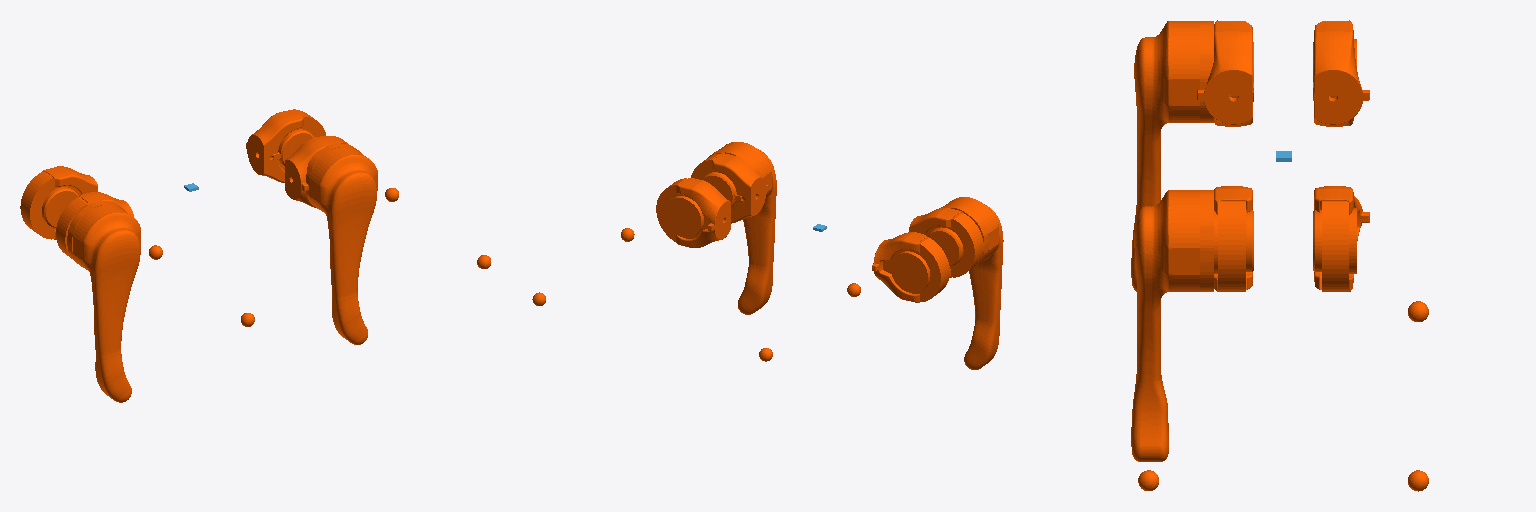
--- Render facts (derived) ---
3 views of the same robot in one strip: view 1: azimuth 30°, elevation 25°; view 2: azimuth 150°, elevation 25°; view 3: azimuth 270°, elevation 25° (orthographic).
Robot: robot — 18 links, 17 joints (12 revolute, 5 fixed); root link base; default pose: joints at zero except 4 at the middle of their limits (RF_KFE = -1.85, LF_KFE = -1.85, RH_KFE = -1.85, LH_KFE = -1.85).
Links seen in each view (by area): view 1: RH_thigh, RF_thigh, LH_hip, LF_hip, RF_hip, RH_hip; view 2: RH_thigh, LF_hip, RF_thigh, LH_hip, RH_hip, RF_hip; view 3: RF_thigh, RH_thigh, LF_hip, LH_hip, RH_hip, RF_hip.
Boxes of the visible links, bbox=[...] form: RH_thigh: bbox=[67, 201, 140, 402]; RF_thigh: bbox=[306, 143, 377, 344]; LH_hip: bbox=[20, 166, 97, 239]; LF_hip: bbox=[246, 109, 325, 182]; RF_hip: bbox=[285, 136, 348, 207]; RH_hip: bbox=[56, 192, 133, 258]; RH_thigh: bbox=[941, 197, 1003, 369]; LF_hip: bbox=[656, 178, 730, 247]; RF_thigh: bbox=[708, 142, 776, 314]; LH_hip: bbox=[872, 232, 949, 302]; RH_hip: bbox=[909, 208, 983, 277]; RF_hip: bbox=[691, 153, 767, 223]; RF_thigh: bbox=[1131, 190, 1213, 461]; RH_thigh: bbox=[1131, 21, 1213, 291]; LF_hip: bbox=[1313, 186, 1369, 291]; LH_hip: bbox=[1313, 20, 1369, 126]; RH_hip: bbox=[1197, 20, 1253, 126]; RF_hip: bbox=[1214, 186, 1253, 291].
Size in the robot's own frame: 0.6389 by 0.2802 by 0.277 metres.
Meshes: 5 distinct files referenced, 6 mesh visuals loaded (2 binary STL); not drawn: 7 (reference not matched to a file when rendering).

robot.urdf — robot:
<?xml version="1.0" ?>
<!-- from: legged_unitree/legged_unitree_description/urdf/go1.urdf -->
<!-- =================================================================================== -->
<!-- |    This document was autogenerated by xacro from robot.xacro                    | -->
<!-- |    EDITING THIS FILE BY HAND IS NOT RECOMMENDED                                 | -->
<!-- =================================================================================== -->
<robot name="robot">
  <material name="black">
    <color rgba="0.0 0.0 0.0 1.0"/>
  </material>
  <material name="blue">
    <color rgba="0.0 0.0 0.8 1.0"/>
  </material>
  <material name="green">
    <color rgba="0.0 0.8 0.0 1.0"/>
  </material>
  <material name="grey">
    <color rgba="0.2 0.2 0.2 1.0"/>
  </material>
  <material name="silver">
    <color rgba="0.9137254901960784 0.9137254901960784 0.8470588235294118 1.0"/>
  </material>
  <material name="orange">
    <color rgba="1.0 0.4235294117647059 0.0392156862745098 1.0"/>
  </material>
  <material name="brown">
    <color rgba="0.8705882352941177 0.8117647058823529 0.7647058823529411 1.0"/>
  </material>
  <material name="red">
    <color rgba="0.8 0.0 0.0 1.0"/>
  </material>
  <material name="white">
    <color rgba="1.0 1.0 1.0 1.0"/>
  </material>
  <!-- ros_control plugin -->
  <gazebo>
    <plugin filename="liblegged_hw_sim.so" name="gazebo_ros_control">
      <robotNamespace>/</robotNamespace>
      <robotParam>legged_robot_description</robotParam>
      <robotSimType>legged_gazebo/LeggedHWSim</robotSimType>
    </plugin>
  </gazebo>
  <gazebo>
    <plugin filename="libgazebo_ros_p3d.so" name="p3d_base_controller">
      <alwaysOn>true</alwaysOn>
      <updateRate>1000.0</updateRate>
      <bodyName>base</bodyName>
      <topicName>ground_truth/state</topicName>
      <gaussianNoise>0</gaussianNoise>
      <frameName>world</frameName>
      <xyzOffsets>0 0 0</xyzOffsets>
      <rpyOffsets>0 0 0</rpyOffsets>
    </plugin>
  </gazebo>
  <gazebo reference="base_link">
    <maxVel>100.</maxVel>
    <kp>10000.</kp>
    <kd>0.</kd>
  </gazebo>
  <gazebo reference="stick_link">
    <mu1>0.2</mu1>
    <mu2>0.2</mu2>
    <material>Gazebo/White</material>
  </gazebo>
  <!-- LF leg -->
  <gazebo reference="LF_hip">
    <mu1>0.2</mu1>
    <mu2>0.2</mu2>
    <material>Gazebo/DarkGrey</material>
  </gazebo>
  <gazebo reference="LF_thigh">
    <mu1>0.2</mu1>
    <mu2>0.2</mu2>
    <self_collide>1</self_collide>
    <material>Gazebo/DarkGrey</material>
    <kp value="1000000.0"/>
    <kd value="1.0"/>
  </gazebo>
  <gazebo reference="LF_calf">
    <mu1>0.2</mu1>
    <mu2>0.2</mu2>
    <self_collide>1</self_collide>
  </gazebo>
  <gazebo reference="LF_FOOT">
    <mu1>0.6</mu1>
    <mu2>0.6</mu2>
    <self_collide>1</self_collide>
    <material>Gazebo/DarkGrey</material>
    <kp value="1000000.0"/>
    <kd value="100.0"/>
  </gazebo>
  <!-- RF leg -->
  <gazebo reference="RF_hip">
    <mu1>0.2</mu1>
    <mu2>0.2</mu2>
    <material>Gazebo/DarkGrey</material>
  </gazebo>
  <gazebo reference="RF_thigh">
    <mu1>0.2</mu1>
    <mu2>0.2</mu2>
    <self_collide>1</self_collide>
    <material>Gazebo/DarkGrey</material>
    <kp value="1000000.0"/>
    <kd value="1.0"/>
  </gazebo>
  <gazebo reference="RF_calf">
    <mu1>0.2</mu1>
    <mu2>0.2</mu2>
    <self_collide>1</self_collide>
  </gazebo>
  <gazebo reference="RF_FOOT">
    <mu1>0.6</mu1>
    <mu2>0.6</mu2>
    <self_collide>1</self_collide>
    <material>Gazebo/DarkGrey</material>
    <kp value="1000000.0"/>
    <kd value="1.0"/>
  </gazebo>
  <!-- LH leg -->
  <gazebo reference="LH_hip">
    <mu1>0.2</mu1>
    <mu2>0.2</mu2>
    <material>Gazebo/DarkGrey</material>
  </gazebo>
  <gazebo reference="LH_thigh">
    <mu1>0.2</mu1>
    <mu2>0.2</mu2>
    <self_collide>1</self_collide>
    <material>Gazebo/DarkGrey</material>
    <kp value="1000000.0"/>
    <kd value="1.0"/>
  </gazebo>
  <gazebo reference="LH_calf">
    <mu1>0.2</mu1>
    <mu2>0.2</mu2>
    <self_collide>1</self_collide>
  </gazebo>
  <gazebo reference="LH_FOOT">
    <mu1>0.6</mu1>
    <mu2>0.6</mu2>
    <self_collide>1</self_collide>
    <material>Gazebo/DarkGrey</material>
    <kp value="1000000.0"/>
    <kd value="1.0"/>
  </gazebo>
  <!-- RH leg -->
  <gazebo reference="RH_hip">
    <mu1>0.2</mu1>
    <mu2>0.2</mu2>
    <material>Gazebo/DarkGrey</material>
  </gazebo>
  <gazebo reference="RH_thigh">
    <mu1>0.2</mu1>
    <mu2>0.2</mu2>
    <self_collide>1</self_collide>
    <material>Gazebo/DarkGrey</material>
    <kp value="1000000.0"/>
    <kd value="1.0"/>
  </gazebo>
  <gazebo reference="RH_calf">
    <mu1>0.2</mu1>
    <mu2>0.2</mu2>
    <self_collide>1</self_collide>
  </gazebo>
  <gazebo reference="RH_FOOT">
    <mu1>0.6</mu1>
    <mu2>0.6</mu2>
    <self_collide>1</self_collide>
    <material>Gazebo/DarkGrey</material>
    <kp value="1000000.0"/>
    <kd value="1.0"/>
  </gazebo>
  <link name="base">
    <visual>
      <origin rpy="0 0 0" xyz="0 0 0"/>
      <geometry>
        <mesh filename="package://meshes/go1/trunk.stl" scale="1 1 1"/>
      </geometry>
    </visual>
    <collision>
      <origin rpy="0 0 0" xyz="0 0 0"/>
      <geometry>
        <box size="0.3762 0.0935 0.114"/>
      </geometry>
    </collision>
    <inertial>
      <origin rpy="0 0 0" xyz="0.0223 0.002 -0.0005"/>
      <mass value="5.204"/>
      <inertia ixx="0.0168128557" ixy="-0.0002296769" ixz="-0.0002945293" iyy="0.063009565" iyz="-4.18731e-05" izz="0.0716547275"/>
    </inertial>
  </link>
  <!-- Imu is fixed to the base link -->
  <joint name="unitree_imu_joint" type="fixed">
    <origin rpy="0. 0. 0." xyz="0. 0. 0."/>
    <parent link="base"/>
    <child link="unitree_imu"/>
  </joint>
  <!-- Imu link -->
  <link name="unitree_imu">
    <inertial>
      <mass value="0.01"/>
      <origin rpy="0 0 0" xyz="0 0 0"/>
      <inertia ixx="0.000001" ixy="0" ixz="0" iyy="0.000001" iyz="0" izz="0.000001"/>
    </inertial>
    <visual>
      <origin rpy="0 0 0" xyz="0 0 0"/>
      <geometry>
        <box size="0.015 0.015 0.004"/>
      </geometry>
    </visual>
    <material name="orange">
      <color rgba="255 108 10 255"/>
    </material>
  </link>
  <gazebo reference="unitree_imu">
    <material>Gazebo/Orange</material>
  </gazebo>
  <gazebo reference="unitree_imu_joint">
    <disableFixedJointLumping>true</disableFixedJointLumping>
  </gazebo>
  <joint name="RF_HAA" type="revolute">
    <origin rpy="0 0 0" xyz="0.1881 -0.04675 0"/>
    <parent link="base"/>
    <child link="RF_hip"/>
    <axis xyz="1 0 0"/>
    <dynamics damping="0.01" friction="0.2"/>
    <limit effort="23.7" lower="-0.863" upper="0.863" velocity="30.1"/>
  </joint>
  <link name="RF_hip">
    <visual>
      <origin rpy="3.141592653589793 0 0" xyz="0 0 0"/>
      <geometry>
        <mesh filename="package://meshes/go1/hip.stl" scale="1 1 1"/>
      </geometry>
      <material name="orange"/>
    </visual>
    <collision>
      <origin rpy="1.5707963267948966 0 0" xyz="0 0 0"/>
      <geometry>
        <cylinder length="0.04" radius="0.046"/>
      </geometry>
    </collision>
    <inertial>
      <origin rpy="0 0 0" xyz="-0.005657 0.008752 -0.000102"/>
      <mass value="0.591"/>
      <inertia ixx="0.000334008405" ixy="1.0826066e-05" ixz="1.290732e-06" iyy="0.000619101213" iyz="-1.643194e-06" izz="0.00040057614"/>
    </inertial>
  </link>
  <joint name="RF_HFE" type="revolute">
    <origin rpy="0 0 0" xyz="0 -0.08 0"/>
    <parent link="RF_hip"/>
    <child link="RF_thigh"/>
    <axis xyz="0 1 0"/>
    <dynamics damping="0.01" friction="0.2"/>
    <limit effort="23.7" lower="-0.686" upper="4.501" velocity="30.1"/>
  </joint>
  <link name="RF_thigh">
    <visual>
      <origin rpy="0 0 0" xyz="0 0 0"/>
      <geometry>
        <mesh filename="package://meshes/go1/thigh_mirror.stl" scale="1 1 1"/>
      </geometry>
      <material name="orange"/>
    </visual>
    <!--collision>
                <origin rpy="0 ${pi/2.0+0.1} 0" xyz="${thigh_x_offset} 0 ${-thigh_length/2.0}"/>
                <geometry>
                    <box size="${thigh_length} ${thigh_width} ${thigh_height}"/>
                </geometry>
            </collision>
            <collision>
                <origin rpy="${pi/2.0} 0 0" xyz="0 ${mirror*thigh_shoulder_y_offset} 0"/>
                <geometry>
                    <cylinder length="${thigh_shoulder_length}" radius="${thigh_shoulder_radius}"/>
                </geometry>
            </collision-->
    <collision>
      <origin rpy="0 1.5707963267948966 0" xyz="0 0 -0.1065"/>
      <geometry>
        <box size="0.213 0.0245 0.034"/>
      </geometry>
    </collision>
    <inertial>
      <origin rpy="0 0 0" xyz="-0.003342 0.018054 -0.033451"/>
      <mass value="0.92"/>
      <inertia ixx="0.004431760472" ixy="-5.7496807e-05" ixz="-0.000218457134" iyy="0.004485671726" iyz="-0.000572001265" izz="0.000740309489"/>
    </inertial>
  </link>
  <joint name="RF_KFE" type="revolute">
    <origin rpy="0 0 0" xyz="0 0 -0.213"/>
    <parent link="RF_thigh"/>
    <child link="RF_calf"/>
    <axis xyz="0 1 0"/>
    <dynamics damping="0.01" friction="0.2"/>
    <limit effort="35.55" lower="-2.818" upper="-0.888" velocity="20.06"/>
  </joint>
  <link name="RF_calf">
    <visual>
      <origin rpy="0 0 0" xyz="0 0 0"/>
      <geometry>
        <mesh filename="package://meshes/go1/calf.stl" scale="1 1 1"/>
      </geometry>
      <material name="orange"/>
    </visual>
    <collision>
      <origin rpy="0 1.5707963267948966 0" xyz="0 0 -0.1065"/>
      <geometry>
        <box size="0.213 0.016 0.016"/>
      </geometry>
    </collision>
    <inertial>
      <origin rpy="0 0 0" xyz="0.006197 0.001408 -0.116695"/>
      <mass value="0.135862"/>
      <inertia ixx="0.001088793059" ixy="-2.55679e-07" ixz="7.117814e-06" iyy="0.001100428748" iyz="2.077264e-06" izz="2.4787446e-05"/>
    </inertial>
  </link>
  <joint name="RF_foot_fixed" type="fixed">
    <origin rpy="0 0 0" xyz="0 0 -0.213"/>
    <parent link="RF_calf"/>
    <child link="RF_FOOT"/>
  </joint>
  <link name="RF_FOOT">
    <visual>
      <origin rpy="0 0 0" xyz="0 0 0"/>
      <geometry>
        <sphere radius="0.01"/>
      </geometry>
      <material name="orange"/>
    </visual>
    <collision>
      <origin rpy="0 0 0" xyz="0 0 0"/>
      <geometry>
        <sphere radius="0.02"/>
      </geometry>
    </collision>
    <inertial>
      <mass value="0.06"/>
      <inertia ixx="9.600000000000001e-06" ixy="0.0" ixz="0.0" iyy="9.600000000000001e-06" iyz="0.0" izz="9.600000000000001e-06"/>
    </inertial>
  </link>
  <gazebo reference="RF_foot_fixed">
    <disableFixedJointLumping>true</disableFixedJointLumping>
  </gazebo>
  <transmission name="RF_HAA_tran">
    <type>transmission_interface/SimpleTransmission</type>
    <joint name="RF_HAA">
      <hardwareInterface>hardware_interface/EffortJointInterface</hardwareInterface>
    </joint>
    <actuator name="RF_HAA_motor">
      <hardwareInterface>hardware_interface/EffortJointInterface</hardwareInterface>
      <mechanicalReduction>1</mechanicalReduction>
    </actuator>
  </transmission>
  <transmission name="RF_HFE_tran">
    <type>transmission_interface/SimpleTransmission</type>
    <joint name="RF_HFE">
      <hardwareInterface>hardware_interface/EffortJointInterface</hardwareInterface>
    </joint>
    <actuator name="RF_HFE_motor">
      <hardwareInterface>hardware_interface/EffortJointInterface</hardwareInterface>
      <mechanicalReduction>1</mechanicalReduction>
    </actuator>
  </transmission>
  <transmission name="RF_KFE_tran">
    <type>transmission_interface/SimpleTransmission</type>
    <joint name="RF_KFE">
      <hardwareInterface>hardware_interface/EffortJointInterface</hardwareInterface>
    </joint>
    <actuator name="RF_KFE_motor">
      <hardwareInterface>hardware_interface/EffortJointInterface</hardwareInterface>
      <mechanicalReduction>1</mechanicalReduction>
    </actuator>
  </transmission>
  <joint name="LF_HAA" type="revolute">
    <origin rpy="0 0 0" xyz="0.1881 0.04675 0"/>
    <parent link="base"/>
    <child link="LF_hip"/>
    <axis xyz="1 0 0"/>
    <dynamics damping="0.01" friction="0.2"/>
    <limit effort="23.7" lower="-0.863" upper="0.863" velocity="30.1"/>
  </joint>
  <link name="LF_hip">
    <visual>
      <origin rpy="0 0 0" xyz="0 0 0"/>
      <geometry>
        <mesh filename="package://meshes/go1/hip.stl" scale="1 1 1"/>
      </geometry>
      <material name="orange"/>
    </visual>
    <collision>
      <origin rpy="1.5707963267948966 0 0" xyz="0 0 0"/>
      <geometry>
        <cylinder length="0.04" radius="0.046"/>
      </geometry>
    </collision>
    <inertial>
      <origin rpy="0 0 0" xyz="-0.005657 -0.008752 -0.000102"/>
      <mass value="0.591"/>
      <inertia ixx="0.000334008405" ixy="-1.0826066e-05" ixz="1.290732e-06" iyy="0.000619101213" iyz="1.643194e-06" izz="0.00040057614"/>
    </inertial>
  </link>
  <joint name="LF_HFE" type="revolute">
    <origin rpy="0 0 0" xyz="0 0.08 0"/>
    <parent link="LF_hip"/>
    <child link="LF_thigh"/>
    <axis xyz="0 1 0"/>
    <dynamics damping="0.01" friction="0.2"/>
    <limit effort="23.7" lower="-0.686" upper="4.501" velocity="30.1"/>
  </joint>
  <link name="LF_thigh">
    <visual>
      <origin rpy="0 0 0" xyz="0 0 0"/>
      <geometry>
        <mesh filename="package://meshes/go1/thigh.stl" scale="1 1 1"/>
      </geometry>
      <material name="orange"/>
    </visual>
    <!--collision>
                <origin rpy="0 ${pi/2.0+0.1} 0" xyz="${thigh_x_offset} 0 ${-thigh_length/2.0}"/>
                <geometry>
                    <box size="${thigh_length} ${thigh_width} ${thigh_height}"/>
                </geometry>
            </collision>
            <collision>
                <origin rpy="${pi/2.0} 0 0" xyz="0 ${mirror*thigh_shoulder_y_offset} 0"/>
                <geometry>
                    <cylinder length="${thigh_shoulder_length}" radius="${thigh_shoulder_radius}"/>
                </geometry>
            </collision-->
    <collision>
      <origin rpy="0 1.5707963267948966 0" xyz="0 0 -0.1065"/>
      <geometry>
        <box size="0.213 0.0245 0.034"/>
      </geometry>
    </collision>
    <inertial>
      <origin rpy="0 0 0" xyz="-0.003342 -0.018054 -0.033451"/>
      <mass value="0.92"/>
      <inertia ixx="0.004431760472" ixy="5.7496807e-05" ixz="-0.000218457134" iyy="0.004485671726" iyz="0.000572001265" izz="0.000740309489"/>
    </inertial>
  </link>
  <joint name="LF_KFE" type="revolute">
    <origin rpy="0 0 0" xyz="0 0 -0.213"/>
    <parent link="LF_thigh"/>
    <child link="LF_calf"/>
    <axis xyz="0 1 0"/>
    <dynamics damping="0.01" friction="0.2"/>
    <limit effort="35.55" lower="-2.818" upper="-0.888" velocity="20.06"/>
  </joint>
  <link name="LF_calf">
    <visual>
      <origin rpy="0 0 0" xyz="0 0 0"/>
      <geometry>
        <mesh filename="package://meshes/go1/calf.stl" scale="1 1 1"/>
      </geometry>
      <material name="orange"/>
    </visual>
    <collision>
      <origin rpy="0 1.5707963267948966 0" xyz="0 0 -0.1065"/>
      <geometry>
        <box size="0.213 0.016 0.016"/>
      </geometry>
    </collision>
    <inertial>
      <origin rpy="0 0 0" xyz="0.006197 0.001408 -0.116695"/>
      <mass value="0.135862"/>
      <inertia ixx="0.001088793059" ixy="-2.55679e-07" ixz="7.117814e-06" iyy="0.001100428748" iyz="2.077264e-06" izz="2.4787446e-05"/>
    </inertial>
  </link>
  <joint name="LF_foot_fixed" type="fixed">
    <origin rpy="0 0 0" xyz="0 0 -0.213"/>
    <parent link="LF_calf"/>
    <child link="LF_FOOT"/>
  </joint>
  <link name="LF_FOOT">
    <visual>
      <origin rpy="0 0 0" xyz="0 0 0"/>
      <geometry>
        <sphere radius="0.01"/>
      </geometry>
      <material name="orange"/>
    </visual>
    <collision>
      <origin rpy="0 0 0" xyz="0 0 0"/>
      <geometry>
        <sphere radius="0.02"/>
      </geometry>
    </collision>
    <inertial>
      <mass value="0.06"/>
      <inertia ixx="9.600000000000001e-06" ixy="0.0" ixz="0.0" iyy="9.600000000000001e-06" iyz="0.0" izz="9.600000000000001e-06"/>
    </inertial>
  </link>
  <gazebo reference="LF_foot_fixed">
    <disableFixedJointLumping>true</disableFixedJointLumping>
  </gazebo>
  <transmission name="LF_HAA_tran">
    <type>transmission_interface/SimpleTransmission</type>
    <joint name="LF_HAA">
      <hardwareInterface>hardware_interface/EffortJointInterface</hardwareInterface>
    </joint>
    <actuator name="LF_HAA_motor">
      <hardwareInterface>hardware_interface/EffortJointInterface</hardwareInterface>
      <mechanicalReduction>1</mechanicalReduction>
    </actuator>
  </transmission>
  <transmission name="LF_HFE_tran">
    <type>transmission_interface/SimpleTransmission</type>
    <joint name="LF_HFE">
      <hardwareInterface>hardware_interface/EffortJointInterface</hardwareInterface>
    </joint>
    <actuator name="LF_HFE_motor">
      <hardwareInterface>hardware_interface/EffortJointInterface</hardwareInterface>
      <mechanicalReduction>1</mechanicalReduction>
    </actuator>
  </transmission>
  <transmission name="LF_KFE_tran">
    <type>transmission_interface/SimpleTransmission</type>
    <joint name="LF_KFE">
      <hardwareInterface>hardware_interface/EffortJointInterface</hardwareInterface>
    </joint>
    <actuator name="LF_KFE_motor">
      <hardwareInterface>hardware_interface/EffortJointInterface</hardwareInterface>
      <mechanicalReduction>1</mechanicalReduction>
    </actuator>
  </transmission>
  <joint name="RH_HAA" type="revolute">
    <origin rpy="0 0 0" xyz="-0.1881 -0.04675 0"/>
    <parent link="base"/>
    <child link="RH_hip"/>
    <axis xyz="1 0 0"/>
    <dynamics damping="0.01" friction="0.2"/>
    <limit effort="23.7" lower="-0.863" upper="0.863" velocity="30.1"/>
  </joint>
  <link name="RH_hip">
    <visual>
      <origin rpy="3.141592653589793 3.141592653589793 0" xyz="0 0 0"/>
      <geometry>
        <mesh filename="package://meshes/go1/hip.stl" scale="1 1 1"/>
      </geometry>
      <material name="orange"/>
    </visual>
    <collision>
      <origin rpy="1.5707963267948966 0 0" xyz="0 0 0"/>
      <geometry>
        <cylinder length="0.04" radius="0.046"/>
      </geometry>
    </collision>
    <inertial>
      <origin rpy="0 0 0" xyz="0.005657 0.008752 -0.000102"/>
      <mass value="0.591"/>
      <inertia ixx="0.000334008405" ixy="-1.0826066e-05" ixz="-1.290732e-06" iyy="0.000619101213" iyz="-1.643194e-06" izz="0.00040057614"/>
    </inertial>
  </link>
  <joint name="RH_HFE" type="revolute">
    <origin rpy="0 0 0" xyz="0 -0.08 0"/>
    <parent link="RH_hip"/>
    <child link="RH_thigh"/>
    <axis xyz="0 1 0"/>
    <dynamics damping="0.01" friction="0.2"/>
    <limit effort="23.7" lower="-0.686" upper="4.501" velocity="30.1"/>
  </joint>
  <link name="RH_thigh">
    <visual>
      <origin rpy="0 0 0" xyz="0 0 0"/>
      <geometry>
        <mesh filename="package://meshes/go1/thigh_mirror.stl" scale="1 1 1"/>
      </geometry>
      <material name="orange"/>
    </visual>
    <!--collision>
                <origin rpy="0 ${pi/2.0+0.1} 0" xyz="${thigh_x_offset} 0 ${-thigh_length/2.0}"/>
                <geometry>
                    <box size="${thigh_length} ${thigh_width} ${thigh_height}"/>
                </geometry>
            </collision>
            <collision>
                <origin rpy="${pi/2.0} 0 0" xyz="0 ${mirror*thigh_shoulder_y_offset} 0"/>
                <geometry>
                    <cylinder length="${thigh_shoulder_length}" radius="${thigh_shoulder_radius}"/>
                </geometry>
            </collision-->
    <collision>
      <origin rpy="0 1.5707963267948966 0" xyz="0 0 -0.1065"/>
      <geometry>
        <box size="0.213 0.0245 0.034"/>
      </geometry>
    </collision>
    <inertial>
      <origin rpy="0 0 0" xyz="-0.003342 0.018054 -0.033451"/>
      <mass value="0.92"/>
      <inertia ixx="0.004431760472" ixy="-5.7496807e-05" ixz="-0.000218457134" iyy="0.004485671726" iyz="-0.000572001265" izz="0.000740309489"/>
    </inertial>
  </link>
  <joint name="RH_KFE" type="revolute">
    <origin rpy="0 0 0" xyz="0 0 -0.213"/>
    <parent link="RH_thigh"/>
    <child link="RH_calf"/>
    <axis xyz="0 1 0"/>
    <dynamics damping="0.01" friction="0.2"/>
    <limit effort="35.55" lower="-2.818" upper="-0.888" velocity="20.06"/>
  </joint>
  <link name="RH_calf">
    <visual>
      <origin rpy="0 0 0" xyz="0 0 0"/>
      <geometry>
        <mesh filename="package://meshes/go1/calf.stl" scale="1 1 1"/>
      </geometry>
      <material name="orange"/>
    </visual>
    <collision>
      <origin rpy="0 1.5707963267948966 0" xyz="0 0 -0.1065"/>
      <geometry>
        <box size="0.213 0.016 0.016"/>
      </geometry>
    </collision>
    <inertial>
      <origin rpy="0 0 0" xyz="0.006197 0.001408 -0.116695"/>
      <mass value="0.135862"/>
      <inertia ixx="0.001088793059" ixy="-2.55679e-07" ixz="7.117814e-06" iyy="0.001100428748" iyz="2.077264e-06" izz="2.4787446e-05"/>
    </inertial>
  </link>
  <joint name="RH_foot_fixed" type="fixed">
    <origin rpy="0 0 0" xyz="0 0 -0.213"/>
    <parent link="RH_calf"/>
    <child link="RH_FOOT"/>
  </joint>
  <link name="RH_FOOT">
    <visual>
      <origin rpy="0 0 0" xyz="0 0 0"/>
      <geometry>
        <sphere radius="0.01"/>
      </geometry>
      <material name="orange"/>
    </visual>
    <collision>
      <origin rpy="0 0 0" xyz="0 0 0"/>
      <geometry>
        <sphere radius="0.02"/>
      </geometry>
    </collision>
    <inertial>
      <mass value="0.06"/>
      <inertia ixx="9.600000000000001e-06" ixy="0.0" ixz="0.0" iyy="9.600000000000001e-06" iyz="0.0" izz="9.600000000000001e-06"/>
    </inertial>
  </link>
  <gazebo reference="RH_foot_fixed">
    <disableFixedJointLumping>true</disableFixedJointLumping>
  </gazebo>
  <transmission name="RH_HAA_tran">
    <type>transmission_interface/SimpleTransmission</type>
    <joint name="RH_HAA">
      <hardwareInterface>hardware_interface/EffortJointInterface</hardwareInterface>
    </joint>
    <actuator name="RH_HAA_motor">
      <hardwareInterface>hardware_interface/EffortJointInterface</hardwareInterface>
      <mechanicalReduction>1</mechanicalReduction>
    </actuator>
  </transmission>
  <transmission name="RH_HFE_tran">
    <type>transmission_interface/SimpleTransmission</type>
    <joint name="RH_HFE">
      <hardwareInterface>hardware_interface/EffortJointInterface</hardwareInterface>
    </joint>
    <actuator name="RH_HFE_motor">
      <hardwareInterface>hardware_interface/EffortJointInterface</hardwareInterface>
      <mechanicalReduction>1</mechanicalReduction>
    </actuator>
  </transmission>
  <transmission name="RH_KFE_tran">
    <type>transmission_interface/SimpleTransmission</type>
    <joint name="RH_KFE">
      <hardwareInterface>hardware_interface/EffortJointInterface</hardwareInterface>
    </joint>
    <actuator name="RH_KFE_motor">
      <hardwareInterface>hardware_interface/EffortJointInterface</hardwareInterface>
      <mechanicalReduction>1</mechanicalReduction>
    </actuator>
  </transmission>
  <joint name="LH_HAA" type="revolute">
    <origin rpy="0 0 0" xyz="-0.1881 0.04675 0"/>
    <parent link="base"/>
    <child link="LH_hip"/>
    <axis xyz="1 0 0"/>
    <dynamics damping="0.01" friction="0.2"/>
    <limit effort="23.7" lower="-0.863" upper="0.863" velocity="30.1"/>
  </joint>
  <link name="LH_hip">
    <visual>
      <origin rpy="0 3.141592653589793 0" xyz="0 0 0"/>
      <geometry>
        <mesh filename="package://meshes/go1/hip.stl" scale="1 1 1"/>
      </geometry>
      <material name="orange"/>
    </visual>
    <collision>
      <origin rpy="1.5707963267948966 0 0" xyz="0 0 0"/>
      <geometry>
        <cylinder length="0.04" radius="0.046"/>
      </geometry>
    </collision>
    <inertial>
      <origin rpy="0 0 0" xyz="0.005657 -0.008752 -0.000102"/>
      <mass value="0.591"/>
      <inertia ixx="0.000334008405" ixy="1.0826066e-05" ixz="-1.290732e-06" iyy="0.000619101213" iyz="1.643194e-06" izz="0.00040057614"/>
    </inertial>
  </link>
  <joint name="LH_HFE" type="revolute">
    <origin rpy="0 0 0" xyz="0 0.08 0"/>
    <parent link="LH_hip"/>
    <child link="LH_thigh"/>
    <axis xyz="0 1 0"/>
    <dynamics damping="0.01" friction="0.2"/>
    <limit effort="23.7" lower="-0.686" upper="4.501" velocity="30.1"/>
  </joint>
  <link name="LH_thigh">
    <visual>
      <origin rpy="0 0 0" xyz="0 0 0"/>
      <geometry>
        <mesh filename="package://meshes/go1/thigh.stl" scale="1 1 1"/>
      </geometry>
      <material name="orange"/>
    </visual>
    <!--collision>
                <origin rpy="0 ${pi/2.0+0.1} 0" xyz="${thigh_x_offset} 0 ${-thigh_length/2.0}"/>
                <geometry>
                    <box size="${thigh_length} ${thigh_width} ${thigh_height}"/>
                </geometry>
            </collision>
            <collision>
                <origin rpy="${pi/2.0} 0 0" xyz="0 ${mirror*thigh_shoulder_y_offset} 0"/>
                <geometry>
                    <cylinder length="${thigh_shoulder_length}" radius="${thigh_shoulder_radius}"/>
                </geometry>
            </collision-->
    <collision>
      <origin rpy="0 1.5707963267948966 0" xyz="0 0 -0.1065"/>
      <geometry>
        <box size="0.213 0.0245 0.034"/>
      </geometry>
    </collision>
    <inertial>
      <origin rpy="0 0 0" xyz="-0.003342 -0.018054 -0.033451"/>
      <mass value="0.92"/>
      <inertia ixx="0.004431760472" ixy="5.7496807e-05" ixz="-0.000218457134" iyy="0.004485671726" iyz="0.000572001265" izz="0.000740309489"/>
    </inertial>
  </link>
  <joint name="LH_KFE" type="revolute">
    <origin rpy="0 0 0" xyz="0 0 -0.213"/>
    <parent link="LH_thigh"/>
    <child link="LH_calf"/>
    <axis xyz="0 1 0"/>
    <dynamics damping="0.01" friction="0.2"/>
    <limit effort="35.55" lower="-2.818" upper="-0.888" velocity="20.06"/>
  </joint>
  <link name="LH_calf">
    <visual>
      <origin rpy="0 0 0" xyz="0 0 0"/>
      <geometry>
        <mesh filename="package://meshes/go1/calf.stl" scale="1 1 1"/>
      </geometry>
      <material name="orange"/>
    </visual>
    <collision>
      <origin rpy="0 1.5707963267948966 0" xyz="0 0 -0.1065"/>
      <geometry>
        <box size="0.213 0.016 0.016"/>
      </geometry>
    </collision>
    <inertial>
      <origin rpy="0 0 0" xyz="0.006197 0.001408 -0.116695"/>
      <mass value="0.135862"/>
      <inertia ixx="0.001088793059" ixy="-2.55679e-07" ixz="7.117814e-06" iyy="0.001100428748" iyz="2.077264e-06" izz="2.4787446e-05"/>
    </inertial>
  </link>
  <joint name="LH_foot_fixed" type="fixed">
    <origin rpy="0 0 0" xyz="0 0 -0.213"/>
    <parent link="LH_calf"/>
    <child link="LH_FOOT"/>
  </joint>
  <link name="LH_FOOT">
    <visual>
      <origin rpy="0 0 0" xyz="0 0 0"/>
      <geometry>
        <sphere radius="0.01"/>
      </geometry>
      <material name="orange"/>
    </visual>
    <collision>
      <origin rpy="0 0 0" xyz="0 0 0"/>
      <geometry>
        <sphere radius="0.02"/>
      </geometry>
    </collision>
    <inertial>
      <mass value="0.06"/>
      <inertia ixx="9.600000000000001e-06" ixy="0.0" ixz="0.0" iyy="9.600000000000001e-06" iyz="0.0" izz="9.600000000000001e-06"/>
    </inertial>
  </link>
  <gazebo reference="LH_foot_fixed">
    <disableFixedJointLumping>true</disableFixedJointLumping>
  </gazebo>
  <transmission name="LH_HAA_tran">
    <type>transmission_interface/SimpleTransmission</type>
    <joint name="LH_HAA">
      <hardwareInterface>hardware_interface/EffortJointInterface</hardwareInterface>
    </joint>
    <actuator name="LH_HAA_motor">
      <hardwareInterface>hardware_interface/EffortJointInterface</hardwareInterface>
      <mechanicalReduction>1</mechanicalReduction>
    </actuator>
  </transmission>
  <transmission name="LH_HFE_tran">
    <type>transmission_interface/SimpleTransmission</type>
    <joint name="LH_HFE">
      <hardwareInterface>hardware_interface/EffortJointInterface</hardwareInterface>
    </joint>
    <actuator name="LH_HFE_motor">
      <hardwareInterface>hardware_interface/EffortJointInterface</hardwareInterface>
      <mechanicalReduction>1</mechanicalReduction>
    </actuator>
  </transmission>
  <transmission name="LH_KFE_tran">
    <type>transmission_interface/SimpleTransmission</type>
    <joint name="LH_KFE">
      <hardwareInterface>hardware_interface/EffortJointInterface</hardwareInterface>
    </joint>
    <actuator name="LH_KFE_motor">
      <hardwareInterface>hardware_interface/EffortJointInterface</hardwareInterface>
      <mechanicalReduction>1</mechanicalReduction>
    </actuator>
  </transmission>
</robot>
